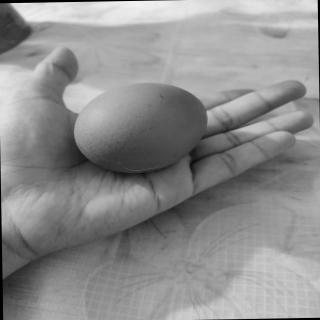Telur: (69, 81, 214, 176)
